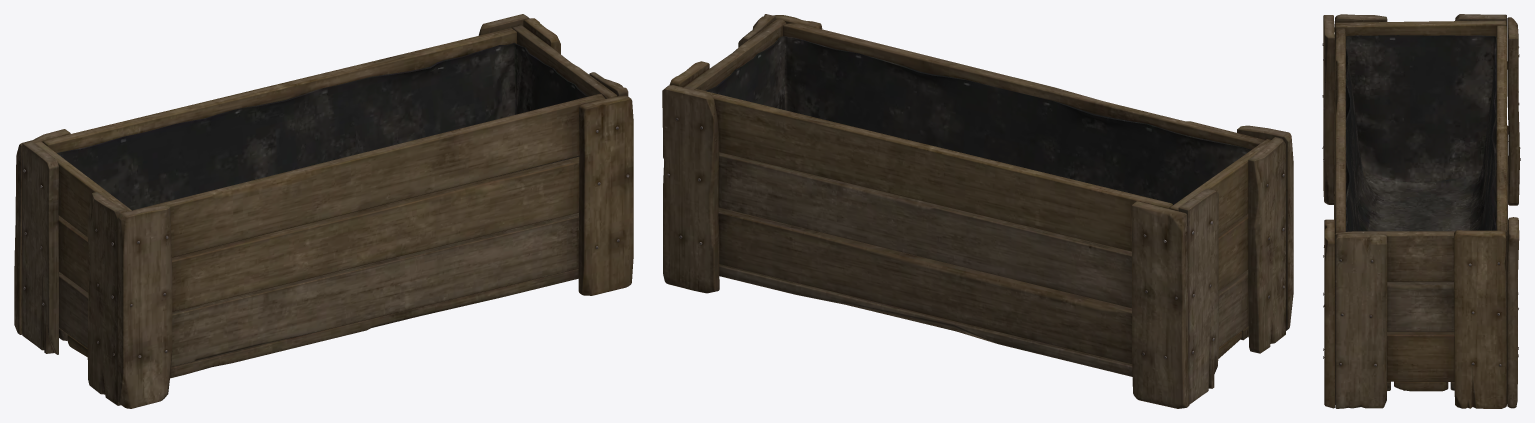
Rendered from planter_box_02.glb.
3 renders of one model, left to right at view 1: azimuth 30°, elevation 25°; view 2: azimuth 150°, elevation 25°; view 3: azimuth 270°, elevation 25°, orthographic. The views are drawn at different scales.
Parts seen in each view (by area): view 1: planter_box_02; view 2: planter_box_02; view 3: planter_box_02.
Boxes of the visible parts, bbox=[...] form: planter_box_02: bbox=[14, 14, 633, 408]; planter_box_02: bbox=[662, 14, 1293, 408]; planter_box_02: bbox=[1322, 14, 1520, 408].
Bounding box in the file's own units: 1.25 × 0.4534 × 0.4673.
1 material, 1 textured.
